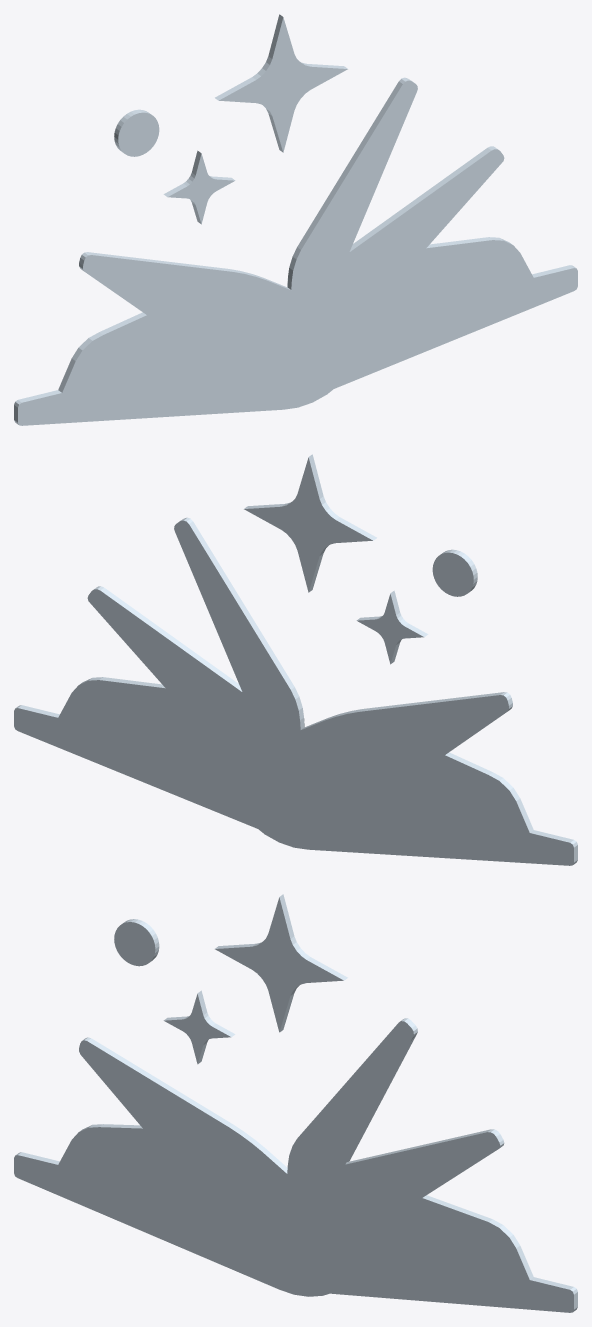
File: Book_3D_Icon.fbx
3 views of the same model, one above another, from view 1: azimuth 30°, elevation 25°; view 2: azimuth 150°, elevation 25°; view 3: azimuth 330°, elevation 25° (orthographic).
Parts seen in each view (by area): view 1: Book_3D_Icon; view 2: Book_3D_Icon; view 3: Book_3D_Icon.
Part boxes in pixels (x1,y1,x2,y2): Book_3D_Icon: (14, 14, 577, 425); Book_3D_Icon: (14, 454, 577, 865); Book_3D_Icon: (14, 894, 577, 1312).
Size of the model in its own units: 160 by 108 by 2.
